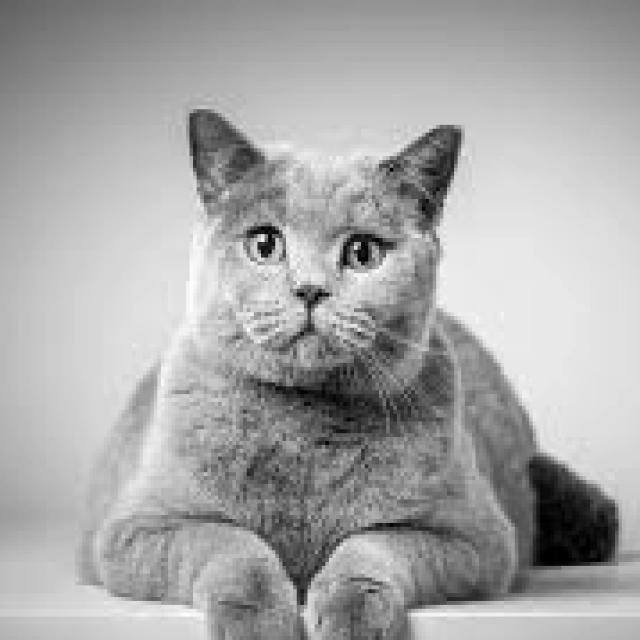british: (170, 89, 449, 382)
